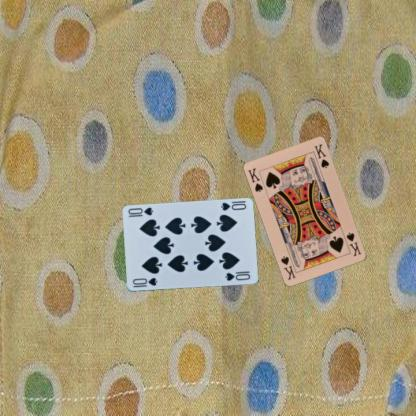10s: (130, 275, 158, 289), (218, 200, 247, 212)
Ks: (344, 230, 363, 258), (246, 165, 264, 194)
